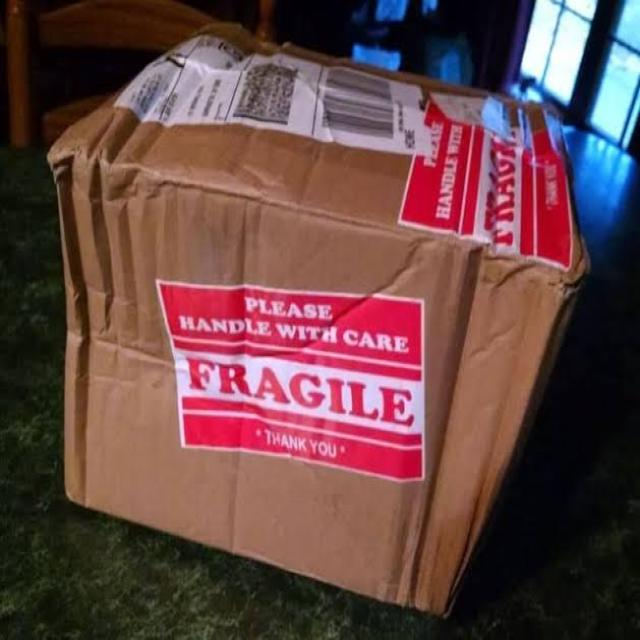carton_box: (36, 24, 602, 636)
export_mark_label: (123, 41, 435, 150)
fragile_label: (161, 273, 439, 489)
package_damage: (42, 127, 146, 325), (546, 251, 602, 314)
